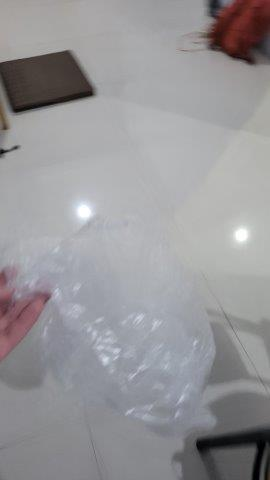plastik: (7, 213, 221, 440)
